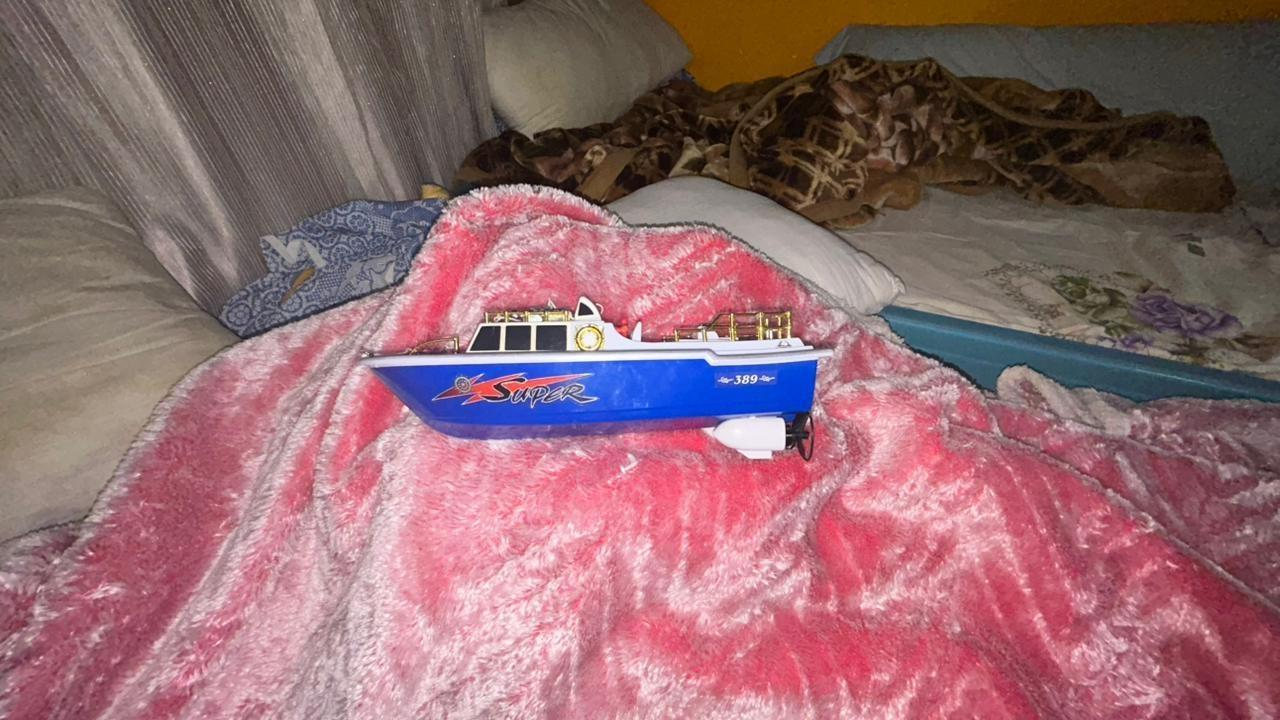Boat: (356, 291, 839, 474)
